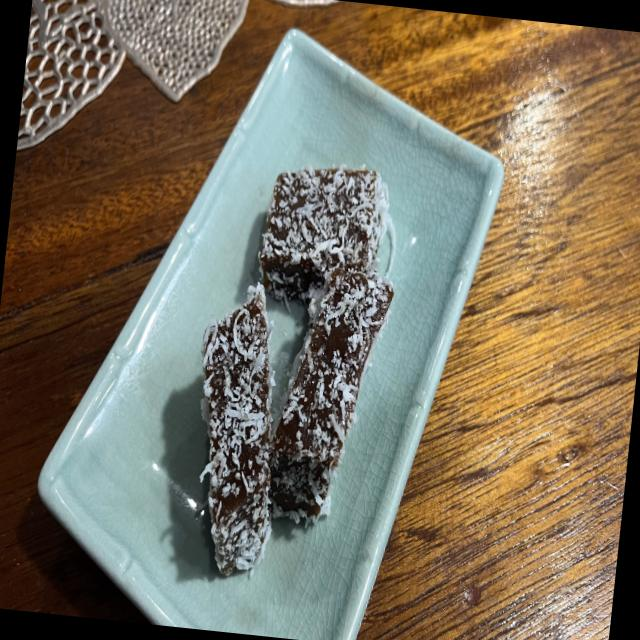kaswi: (269, 267, 393, 521), (200, 284, 271, 576), (259, 166, 394, 303)
